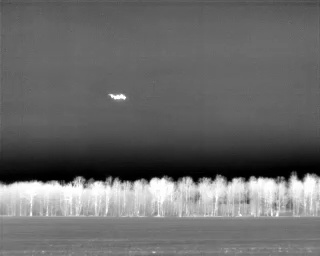DRONE: (105, 88, 131, 106)
